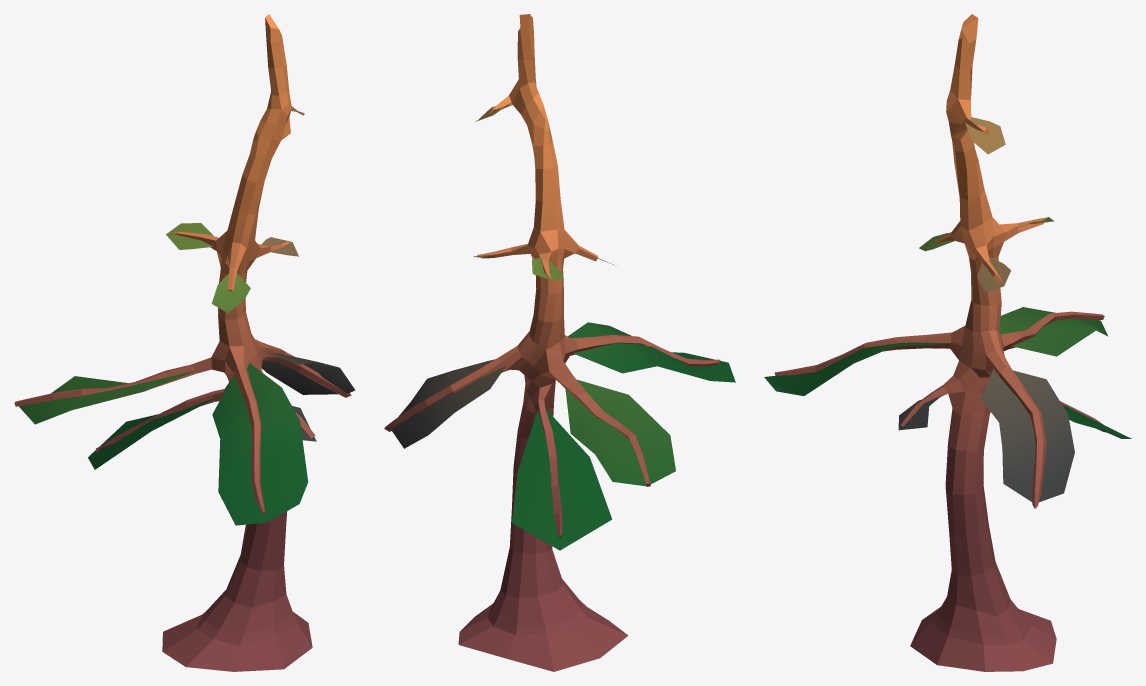
Rendered from Bare_B.fbx.
3 views of the same model, side by side, from view 1: azimuth 30°, elevation 25°; view 2: azimuth 150°, elevation 25°; view 3: azimuth 270°, elevation 25° (orthographic). The views are drawn at different scales.
Visible parts, largest first — view 1: Bare_B_; view 2: Bare_B_; view 3: Bare_B_.
Part boxes in pixels (x1,y1,x2,y2): Bare_B_: (14, 14, 355, 671); Bare_B_: (384, 14, 735, 671); Bare_B_: (764, 14, 1131, 671).
Bounding box in the file's own units: 20.69 × 40.35 × 21.08.
